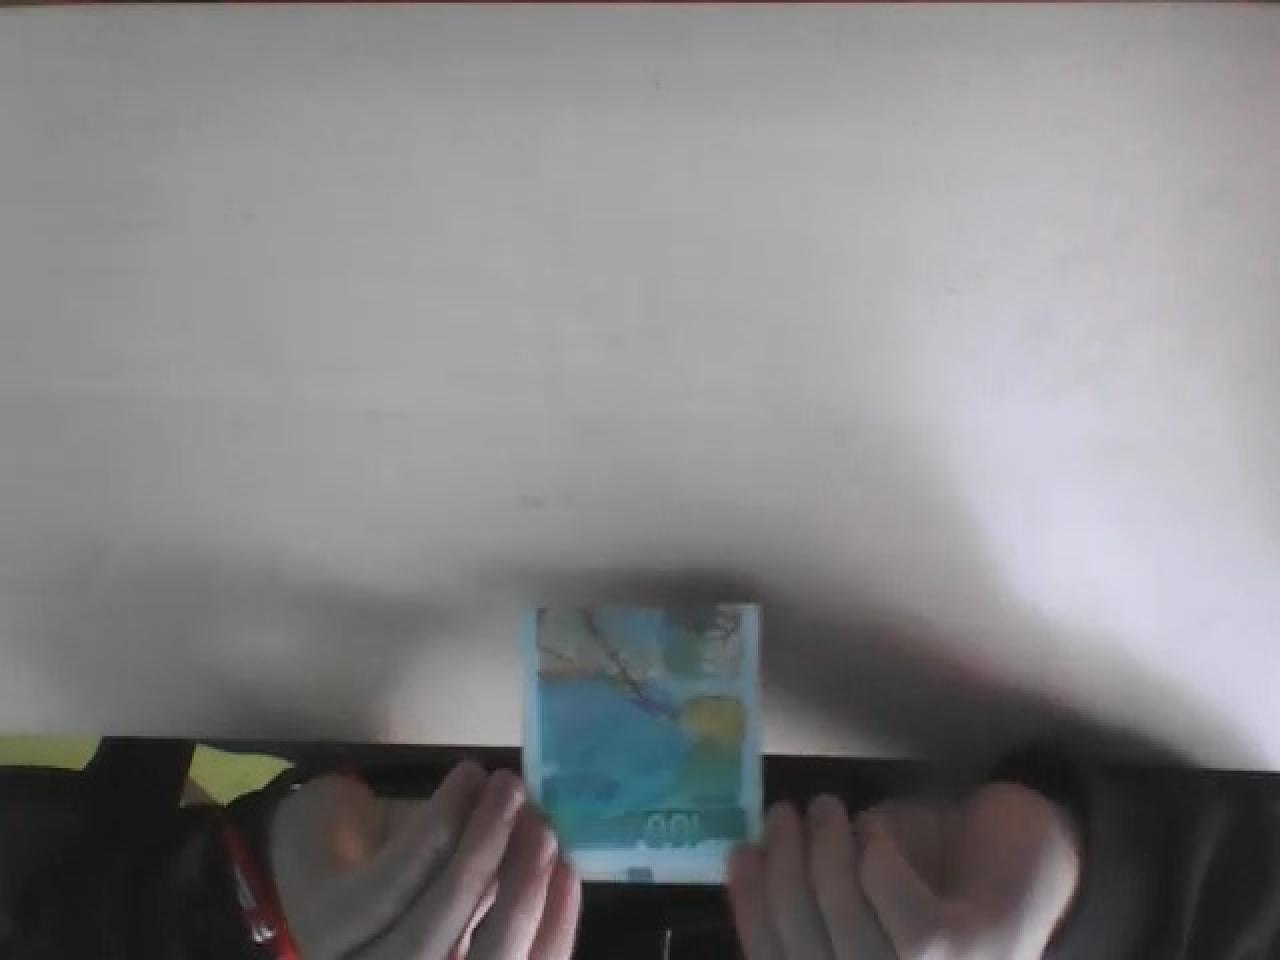100leva: (516, 595, 764, 885)
